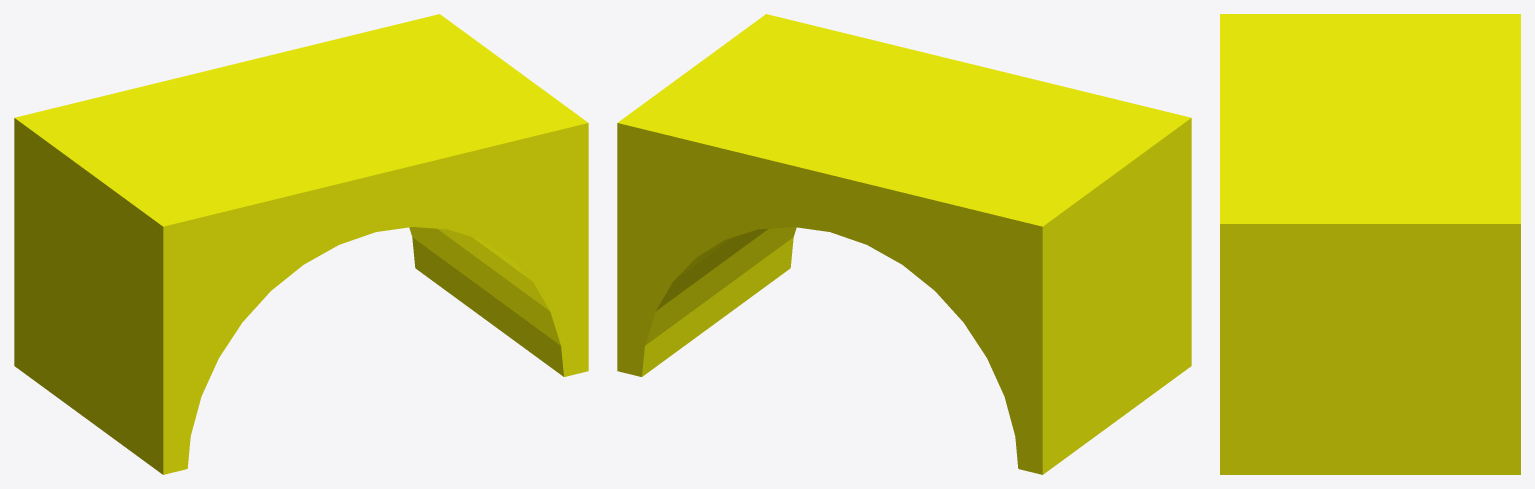
Rendered from Arch_Block.fbx.
3 renders of one model, left to right at view 1: azimuth 30°, elevation 25°; view 2: azimuth 150°, elevation 25°; view 3: azimuth 270°, elevation 25°, orthographic.
Parts seen in each view (by area): view 1: 큐브; view 2: 큐브; view 3: 큐브.
Part boxes in pixels (x1,y1,x2,y2): 큐브: (14,14,588,474); 큐브: (617,14,1191,474); 큐브: (1220,14,1520,474).
Bounding box in the file's own units: 2 × 1.12 × 1.21.
